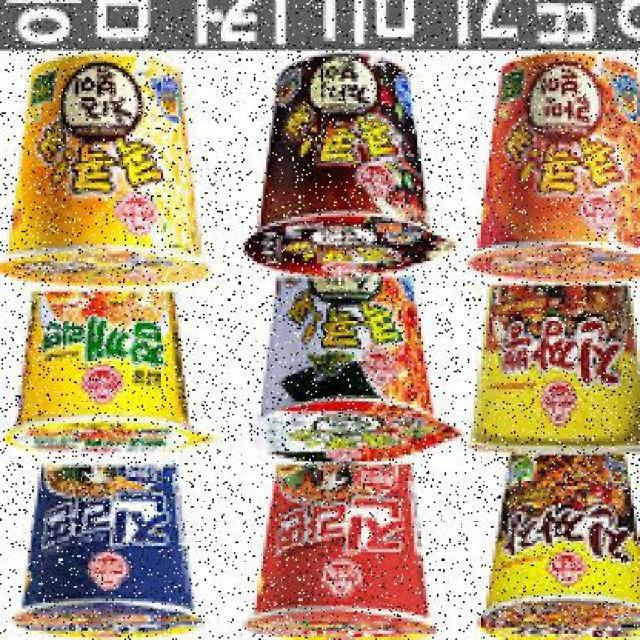Miscellaneous: (238, 57, 462, 283), (7, 56, 215, 286), (248, 239, 456, 456), (244, 435, 443, 640), (5, 439, 208, 639), (461, 59, 640, 279), (8, 253, 194, 458), (467, 269, 640, 464), (477, 443, 640, 640)
